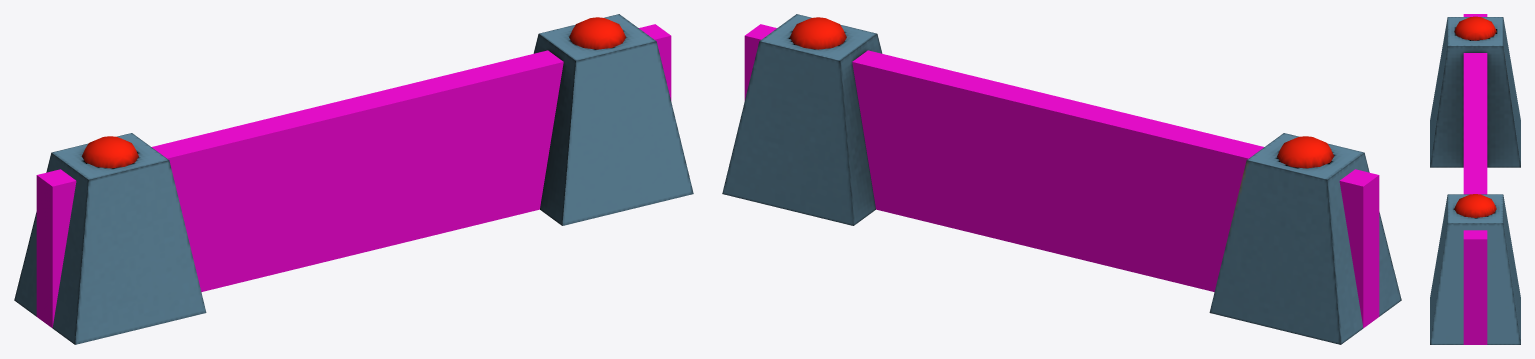
The model's file is barrierLow.FBX.
3 views of the same model, side by side, from view 1: azimuth 30°, elevation 25°; view 2: azimuth 150°, elevation 25°; view 3: azimuth 270°, elevation 25° (orthographic). The views are drawn at different scales.
Visible parts, largest first — view 1: INVIS_OBSTACLE_barrier_low, barrierLow; view 2: INVIS_OBSTACLE_barrier_low, barrierLow; view 3: barrierLow, INVIS_OBSTACLE_barrier_low.
Part boxes in pixels (x1=…): INVIS_OBSTACLE_barrier_low: x1=36, y1=24, x2=671, y2=328; barrierLow: x1=14, y1=14, x2=693, y2=344; INVIS_OBSTACLE_barrier_low: x1=744, y1=24, x2=1379, y2=328; barrierLow: x1=722, y1=14, x2=1401, y2=344; barrierLow: x1=1430, y1=16, x2=1520, y2=344; INVIS_OBSTACLE_barrier_low: x1=1463, y1=14, x2=1487, y2=344.
Bounding box in the file's own units: 35.14 × 9.05 × 5.99.
